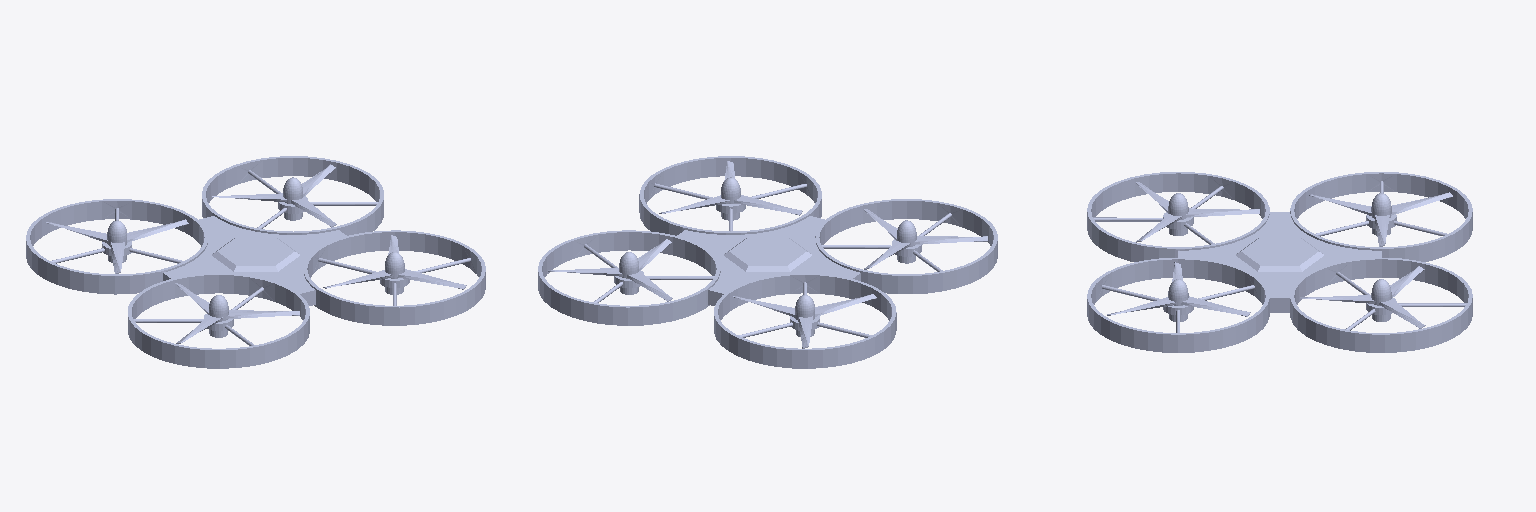
Rendered from aaaa.obj.
3 views of the same model, side by side, from view 1: azimuth 30°, elevation 25°; view 2: azimuth 150°, elevation 25°; view 3: azimuth 270°, elevation 25° (orthographic).
Size of the model in its own units: 190 by 21 by 190.